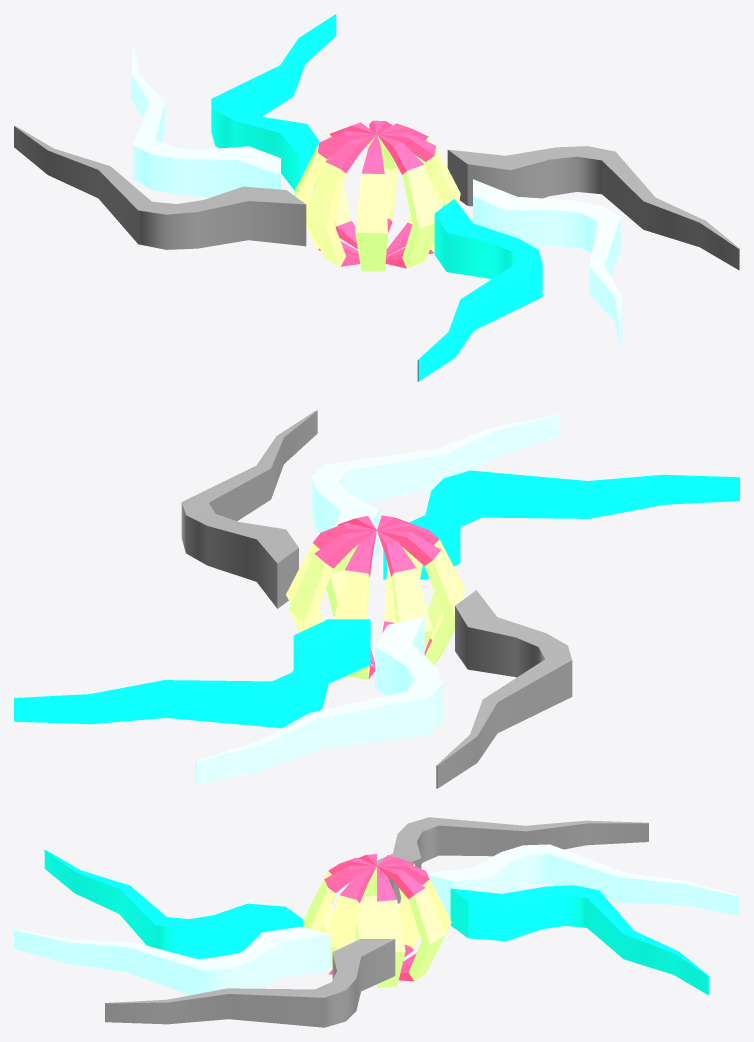
Rendered from pulpo_glow_01.fbx.
The picture shows the model from 3 angles, top to bottom: view 1: azimuth 30°, elevation 25°; view 2: azimuth 150°, elevation 25°; view 3: azimuth 270°, elevation 25°; orthographic projection. The views are drawn at different scales.
Parts seen in each view (by area): view 1: pCube160; view 2: pCube160; view 3: pCube160.
Boxes of the visible parts, <box> form: pCube160: <box>14,14,739,381</box>; pCube160: <box>14,410,739,788</box>; pCube160: <box>14,817,739,1027</box>.
Bounding box in the file's own units: 20.78 × 6.01 × 35.04.
